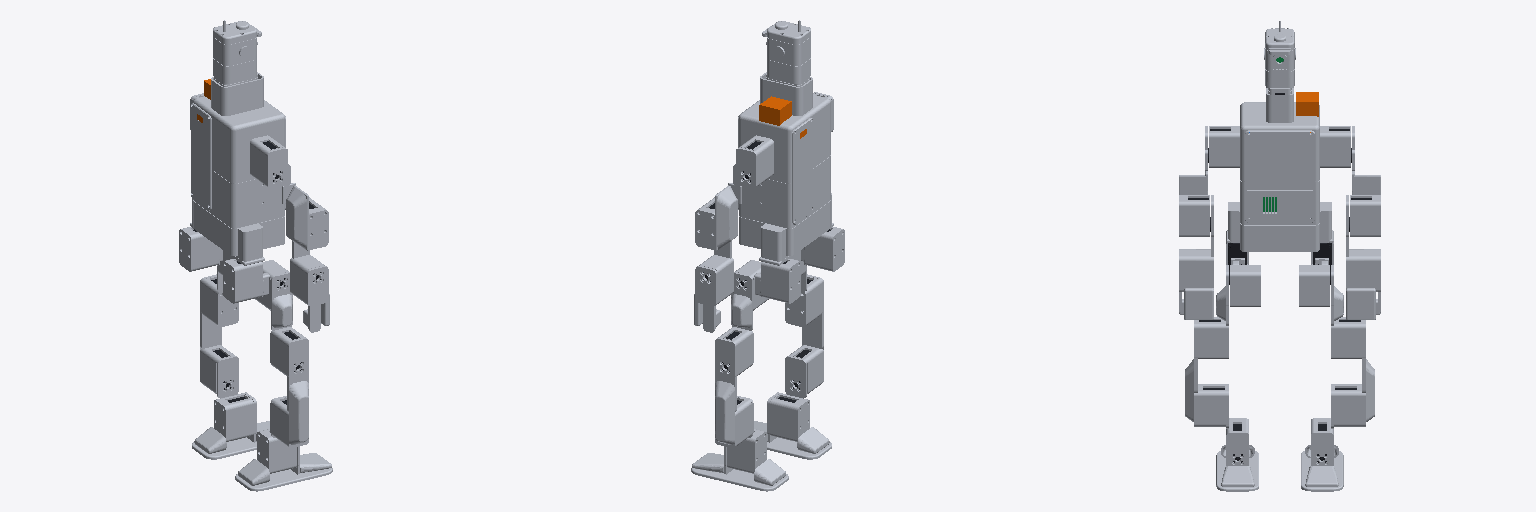
The robot description file, URDF, robot "budget19":
<?xml version="1.0"?>
<!-- Budget-19 humanoid. Generated by cad/sim_export.py. Units: m, kg, rad. Link frames are world-aligned at zero pose, origin at the joint shaft. -->
<robot name="budget19">
  <material name="printed"><color rgba="0.78 0.80 0.84 1"/></material>
  <material name="servo"><color rgba="0.17 0.18 0.21 1"/></material>
  <link name="base">
    <inertial><origin xyz="-0.0252444 0.00404039 0.418896" rpy="0 0 0"/><mass value="0.982852"/>
      <inertia ixx="0.00483797" ixy="-1.70004e-05" ixz="-0.000154384" iyy="0.00362709" iyz="-8.59185e-05" izz="0.00199682"/></inertial>
    <visual><origin xyz="0 0 0" rpy="0 0 0"/><geometry><mesh filename="meshes/base.obj"/></geometry><material name="printed"/></visual>
    <visual name="r_hip_yaw_servo"><origin xyz="-0.04 -0.0425 0.3357" rpy="3.14159 0 -1.5708"/><geometry><mesh filename="meshes/sts3215.obj"/></geometry><material name="servo"/></visual>
    <visual name="l_hip_yaw_servo"><origin xyz="-0.04 0.0425 0.3357" rpy="3.14159 0 1.5708"/><geometry><mesh filename="meshes/sts3215.obj"/></geometry><material name="servo"/></visual>
    <visual name="r_shoulder_pitch_servo"><origin xyz="-0.0224 -0.0748 0.4525" rpy="1.5708 1.5708 0"/><geometry><mesh filename="meshes/sts3215.obj"/></geometry><material name="servo"/></visual>
    <visual name="l_shoulder_pitch_servo"><origin xyz="-0.0224 0.0748 0.4525" rpy="-1.5708 1.5708 0"/><geometry><mesh filename="meshes/sts3215.obj"/></geometry><material name="servo"/></visual>
    <visual name="neck_yaw_servo"><origin xyz="-0.0275 0 0.5228" rpy="0 0 -3.14159"/><geometry><mesh filename="meshes/sts3215.obj"/></geometry><material name="servo"/></visual>
    <visual name="env_Raspberry_Pi_5"><origin xyz="-0.0457877 -0.0181767 0.416498"/><geometry><box size="0.0183011 0.0573984 0.0879215"/></geometry><material name="m_compute"><color rgba="0.12 0.44 0.88 1"/></material></visual>
    <visual name="env_3S_LiPo_2200_mAh_typical_outline"><origin xyz="-0.02 0.026 0.4215"/><geometry><box size="0.025 0.035 0.117"/></geometry><material name="m_power"><color rgba="0.91 0.44 0.04 1"/></material></visual>
    <visual name="env_Pololu_D24V50F5_5_V_buck"><origin xyz="0.0108 0.035 0.385"/><geometry><box size="0.0088 0.0203 0.0178"/></geometry><material name="m_power"><color rgba="0.91 0.44 0.04 1"/></material></visual>
    <visual name="env_Waveshare_bus_adapter_A_legs"><origin xyz="0.0054 -0.031 0.42275"/><geometry><box size="0.0126 0.033 0.0445"/></geometry><material name="m_compute"><color rgba="0.12 0.44 0.88 1"/></material></visual>
    <visual name="env_Waveshare_bus_adapter_B_arms_neck"><origin xyz="0.0054 -0.031 0.46475"/><geometry><box size="0.0126 0.033 0.0445"/></geometry><material name="m_compute"><color rgba="0.12 0.44 0.88 1"/></material></visual>
    <visual name="env_Seeed_XIAO_ESP32-S3"><origin xyz="0.01165 0.025 0.431"/><geometry><box size="0.0042 0.0178 0.0225"/></geometry><material name="m_compute"><color rgba="0.12 0.44 0.88 1"/></material></visual>
    <visual name="env_Relay_+_fuse_holder"><origin xyz="-0.025 -0.032 0.378"/><geometry><box size="0.02 0.02 0.03"/></geometry><material name="m_power"><color rgba="0.91 0.44 0.04 1"/></material></visual>
    <visual name="env_Adafruit_BNO085_IMU"><origin xyz="-0.01 -0.00462166 0.363884"/><geometry><box size="0.0254 0.0221033 0.00276795"/></geometry><material name="m_sensor"><color rgba="0.1 0.6 0.33 1"/></material></visual>
    <visual name="env_40_mm_speaker"><origin xyz="0.00266165 -0.012772 0.388053"/><geometry><box size="0.0250343 0.0397942 0.0399567"/></geometry><material name="m_sensor"><color rgba="0.1 0.6 0.33 1"/></material></visual>
    <visual name="env_MAX98357A_I2S_amp"><origin xyz="0.013774 -0.00250923 0.41999"/><geometry><box size="0.00234808 0.0174158 0.01778"/></geometry><material name="m_sensor"><color rgba="0.1 0.6 0.33 1"/></material></visual>
    <visual name="env_E-stop_16_mm_unibody,_NC,_latching"><origin xyz="-0.03 0.036 0.49855"/><geometry><box size="0.03 0.0299161 0.0441"/></geometry><material name="m_power"><color rgba="0.91 0.44 0.04 1"/></material></visual>
    <visual name="env_XT60_panel_connector_charge_port"><origin xyz="-0.0558 0.026 0.482"/><geometry><box size="0.018 0.016 0.0081"/></geometry><material name="m_power"><color rgba="0.91 0.44 0.04 1"/></material></visual>
  </link>
  <link name="r_foot">
    <inertial><origin xyz="-0.00793475 9.90203e-09 -0.0163007" rpy="0 0 0"/><mass value="0.0354951"/>
      <inertia ixx="1.26238e-05" ixy="3.61196e-11" ixz="-1.07029e-06" iyy="4.89843e-05" iyz="1.65015e-11" izz="5.01619e-05"/></inertial>
    <visual><origin xyz="0 0 0" rpy="0 0 0"/><geometry><mesh filename="meshes/r_foot.obj"/></geometry><material name="printed"/></visual>
    <collision><origin xyz="-0.011 0 -0.023"/><geometry><box size="0.122 0.056 0.004"/></geometry></collision>
  </link>
  <link name="r_ankle_link">
    <inertial><origin xyz="0.00191297 0.0144518 -0.0374398" rpy="0 0 0"/><mass value="0.0769925"/>
      <inertia ixx="3.14209e-05" ixy="-1.1018e-07" ixz="6.09626e-07" iyy="3.46897e-05" iyz="2.84812e-06" izz="1.39515e-05"/></inertial>
    <visual><origin xyz="0 0 0" rpy="0 0 0"/><geometry><mesh filename="meshes/r_ankle_link.obj"/></geometry><material name="printed"/></visual>
    <visual name="r_ankle_roll_servo"><origin xyz="0.0033 0.0152 -0.0405" rpy="-0 1.5708 0"/><geometry><mesh filename="meshes/sts3215.obj"/></geometry><material name="servo"/></visual>
  </link>
  <link name="r_shin">
    <inertial><origin xyz="8.29409e-08 0.0135404 -0.0760556" rpy="0 0 0"/><mass value="0.0870581"/>
      <inertia ixx="7.97093e-05" ixy="-1.90935e-11" ixz="-2.70447e-10" iyy="7.01483e-05" iyz="1.26417e-05" izz="2.09551e-05"/></inertial>
    <visual><origin xyz="0 0 0" rpy="0 0 0"/><geometry><mesh filename="meshes/r_shin.obj"/></geometry><material name="printed"/></visual>
    <visual name="r_ankle_pitch_servo"><origin xyz="0 0.0187 -0.0845" rpy="-1.5708 1.5708 0"/><geometry><mesh filename="meshes/sts3215.obj"/></geometry><material name="servo"/></visual>
  </link>
  <link name="r_thigh">
    <inertial><origin xyz="-8.7768e-08 -0.0203383 -0.0820283" rpy="0 0 0"/><mass value="0.101656"/>
      <inertia ixx="6.13843e-05" ixy="-2.1406e-11" ixz="3.36427e-11" iyy="5.49293e-05" iyz="-8.77145e-06" izz="1.90142e-05"/></inertial>
    <visual><origin xyz="0 0 0" rpy="0 0 0"/><geometry><mesh filename="meshes/r_thigh.obj"/></geometry><material name="printed"/></visual>
    <visual name="r_knee_servo"><origin xyz="0 -0.0229 -0.0875" rpy="1.5708 1.5708 0"/><geometry><mesh filename="meshes/sts3215.obj"/></geometry><material name="servo"/></visual>
  </link>
  <link name="r_hip_roll_link">
    <inertial><origin xyz="0.0274745 0.00833604 -0.0122249" rpy="0 0 0"/><mass value="0.0952103"/>
      <inertia ixx="2.80195e-05" ixy="-6.80095e-07" ixz="8.12502e-07" iyy="2.46916e-05" iyz="5.78749e-07" izz="1.75482e-05"/></inertial>
    <visual><origin xyz="0 0 0" rpy="0 0 0"/><geometry><mesh filename="meshes/r_hip_roll_link.obj"/></geometry><material name="printed"/></visual>
    <visual name="r_hip_pitch_servo"><origin xyz="0.0282 0.0077 -0.0125" rpy="1.5708 -1.5708 0"/><geometry><mesh filename="meshes/sts3215.obj"/></geometry><material name="servo"/></visual>
  </link>
  <link name="r_hip_yaw_link">
    <inertial><origin xyz="-0.00769975 0.000694954 -0.027868" rpy="0 0 0"/><mass value="0.0770069"/>
      <inertia ixx="2.30142e-05" ixy="-4.12113e-07" ixz="-7.65584e-07" iyy="2.56238e-05" iyz="-1.3793e-06" izz="1.51578e-05"/></inertial>
    <visual><origin xyz="0 0 0" rpy="0 0 0"/><geometry><mesh filename="meshes/r_hip_yaw_link.obj"/></geometry><material name="printed"/></visual>
    <visual name="r_hip_roll_servo"><origin xyz="-0.0069 0 -0.0295" rpy="-0 1.5708 0"/><geometry><mesh filename="meshes/sts3215.obj"/></geometry><material name="servo"/></visual>
  </link>
  <link name="r_upper_arm">
    <inertial><origin xyz="0.033996 -0.0165551 -0.0616951" rpy="0 0 0"/><mass value="0.0902916"/>
      <inertia ixx="6.19496e-05" ixy="2.09106e-06" ixz="1.56339e-05" iyy="6.62875e-05" iyz="-5.12834e-06" izz="2.63526e-05"/></inertial>
    <visual><origin xyz="0 0 0" rpy="0 0 0"/><geometry><mesh filename="meshes/r_upper_arm.obj"/></geometry><material name="printed"/></visual>
    <visual name="r_elbow_servo"><origin xyz="0.0389 -0.0159 -0.0685" rpy="-1.5708 1.5708 0"/><geometry><mesh filename="meshes/sts3215.obj"/></geometry><material name="servo"/></visual>
  </link>
  <link name="r_forearm">
    <inertial><origin xyz="0.00203198 -0.01579 -0.0664544" rpy="0 0 0"/><mass value="0.0887601"/>
      <inertia ixx="7.38015e-05" ixy="-1.60495e-07" ixz="7.25662e-06" iyy="7.0135e-05" iyz="-6.83323e-06" izz="1.96379e-05"/></inertial>
    <visual><origin xyz="0 0 0" rpy="0 0 0"/><geometry><mesh filename="meshes/r_forearm.obj"/></geometry><material name="printed"/></visual>
    <visual name="r_gripper_servo"><origin xyz="0 -0.0187 -0.0665" rpy="1.5708 -1.5708 0"/><geometry><mesh filename="meshes/sts3215.obj"/></geometry><material name="servo"/></visual>
  </link>
  <link name="r_finger">
    <inertial><origin xyz="-0.00110979 0.00334888 -0.0408828" rpy="0 0 0"/><mass value="0.00946515"/>
      <inertia ixx="7.4122e-06" ixy="-5.78359e-09" ixz="-1.91359e-07" iyy="7.17511e-06" iyz="1.23719e-06" izz="1.06221e-06"/></inertial>
    <visual><origin xyz="0 0 0" rpy="0 0 0"/><geometry><mesh filename="meshes/r_finger.obj"/></geometry><material name="printed"/></visual>
  </link>
  <link name="l_foot">
    <inertial><origin xyz="-0.00793475 -9.90203e-09 -0.0163007" rpy="0 0 0"/><mass value="0.0354951"/>
      <inertia ixx="1.26238e-05" ixy="-3.61196e-11" ixz="-1.07029e-06" iyy="4.89843e-05" iyz="-1.65015e-11" izz="5.01619e-05"/></inertial>
    <visual><origin xyz="0 0 0" rpy="0 0 0"/><geometry><mesh filename="meshes/l_foot.obj"/></geometry><material name="printed"/></visual>
    <collision><origin xyz="-0.011 0 -0.023"/><geometry><box size="0.122 0.056 0.004"/></geometry></collision>
  </link>
  <link name="l_ankle_link">
    <inertial><origin xyz="0.00191297 -0.014452 -0.0374398" rpy="0 0 0"/><mass value="0.0769925"/>
      <inertia ixx="3.14209e-05" ixy="1.10193e-07" ixz="6.09626e-07" iyy="3.46897e-05" iyz="-2.84796e-06" izz="1.39515e-05"/></inertial>
    <visual><origin xyz="0 0 0" rpy="0 0 0"/><geometry><mesh filename="meshes/l_ankle_link.obj"/></geometry><material name="printed"/></visual>
    <visual name="l_ankle_roll_servo"><origin xyz="0.0033 -0.0152 -0.0405" rpy="-0 1.5708 0"/><geometry><mesh filename="meshes/sts3215.obj"/></geometry><material name="servo"/></visual>
  </link>
  <link name="l_shin">
    <inertial><origin xyz="-7.91865e-08 -0.0135404 -0.0760556" rpy="0 0 0"/><mass value="0.0870581"/>
      <inertia ixx="7.97093e-05" ixy="-4.68935e-11" ixz="-1.87975e-10" iyy="7.01483e-05" iyz="-1.26417e-05" izz="2.09551e-05"/></inertial>
    <visual><origin xyz="0 0 0" rpy="0 0 0"/><geometry><mesh filename="meshes/l_shin.obj"/></geometry><material name="printed"/></visual>
    <visual name="l_ankle_pitch_servo"><origin xyz="0 -0.0187 -0.0845" rpy="1.5708 1.5708 0"/><geometry><mesh filename="meshes/sts3215.obj"/></geometry><material name="servo"/></visual>
  </link>
  <link name="l_thigh">
    <inertial><origin xyz="9.69675e-08 0.0203383 -0.0820283" rpy="0 0 0"/><mass value="0.101656"/>
      <inertia ixx="6.13843e-05" ixy="-1.76035e-11" ixz="-1.31912e-10" iyy="5.49293e-05" iyz="8.77145e-06" izz="1.90142e-05"/></inertial>
    <visual><origin xyz="0 0 0" rpy="0 0 0"/><geometry><mesh filename="meshes/l_thigh.obj"/></geometry><material name="printed"/></visual>
    <visual name="l_knee_servo"><origin xyz="0 0.0229 -0.0875" rpy="-1.5708 1.5708 0"/><geometry><mesh filename="meshes/sts3215.obj"/></geometry><material name="servo"/></visual>
  </link>
  <link name="l_hip_roll_link">
    <inertial><origin xyz="0.0274743 -0.00833604 -0.0122249" rpy="0 0 0"/><mass value="0.0952103"/>
      <inertia ixx="2.80195e-05" ixy="6.80097e-07" ixz="8.12231e-07" iyy="2.46915e-05" iyz="-5.78747e-07" izz="1.75482e-05"/></inertial>
    <visual><origin xyz="0 0 0" rpy="0 0 0"/><geometry><mesh filename="meshes/l_hip_roll_link.obj"/></geometry><material name="printed"/></visual>
    <visual name="l_hip_pitch_servo"><origin xyz="0.0282 -0.0077 -0.0125" rpy="-1.5708 -1.5708 0"/><geometry><mesh filename="meshes/sts3215.obj"/></geometry><material name="servo"/></visual>
  </link>
  <link name="l_hip_yaw_link">
    <inertial><origin xyz="-0.00769975 -0.000695137 -0.027868" rpy="0 0 0"/><mass value="0.0770069"/>
      <inertia ixx="2.30142e-05" ixy="4.12118e-07" ixz="-7.65584e-07" iyy="2.56238e-05" iyz="1.37948e-06" izz="1.51578e-05"/></inertial>
    <visual><origin xyz="0 0 0" rpy="0 0 0"/><geometry><mesh filename="meshes/l_hip_yaw_link.obj"/></geometry><material name="printed"/></visual>
    <visual name="l_hip_roll_servo"><origin xyz="-0.0069 0 -0.0295" rpy="-0 1.5708 0"/><geometry><mesh filename="meshes/sts3215.obj"/></geometry><material name="servo"/></visual>
  </link>
  <link name="l_upper_arm">
    <inertial><origin xyz="0.0339958 0.0165551 -0.0616951" rpy="0 0 0"/><mass value="0.0902916"/>
      <inertia ixx="6.19495e-05" ixy="-2.09107e-06" ixz="1.5634e-05" iyy="6.62873e-05" iyz="5.12834e-06" izz="2.63525e-05"/></inertial>
    <visual><origin xyz="0 0 0" rpy="0 0 0"/><geometry><mesh filename="meshes/l_upper_arm.obj"/></geometry><material name="printed"/></visual>
    <visual name="l_elbow_servo"><origin xyz="0.0389 0.0159 -0.0685" rpy="1.5708 1.5708 0"/><geometry><mesh filename="meshes/sts3215.obj"/></geometry><material name="servo"/></visual>
  </link>
  <link name="l_forearm">
    <inertial><origin xyz="0.00203182 0.01579 -0.0664544" rpy="0 0 0"/><mass value="0.0887601"/>
      <inertia ixx="7.38015e-05" ixy="1.60529e-07" ixz="7.25641e-06" iyy="7.01351e-05" iyz="6.83324e-06" izz="1.96379e-05"/></inertial>
    <visual><origin xyz="0 0 0" rpy="0 0 0"/><geometry><mesh filename="meshes/l_forearm.obj"/></geometry><material name="printed"/></visual>
    <visual name="l_gripper_servo"><origin xyz="0 0.0187 -0.0665" rpy="-1.5708 -1.5708 0"/><geometry><mesh filename="meshes/sts3215.obj"/></geometry><material name="servo"/></visual>
  </link>
  <link name="l_finger">
    <inertial><origin xyz="-0.00110979 -0.00334888 -0.0408828" rpy="0 0 0"/><mass value="0.00946516"/>
      <inertia ixx="7.4122e-06" ixy="5.78357e-09" ixz="-1.91359e-07" iyy="7.17511e-06" iyz="-1.23719e-06" izz="1.06221e-06"/></inertial>
    <visual><origin xyz="0 0 0" rpy="0 0 0"/><geometry><mesh filename="meshes/l_finger.obj"/></geometry><material name="printed"/></visual>
  </link>
  <link name="head">
    <inertial><origin xyz="0.0127807 0.000229491 0.0328617" rpy="0 0 0"/><mass value="0.0592613"/>
      <inertia ixx="3.62484e-05" ixy="-1.66181e-07" ixz="3.57758e-07" iyy="4.16136e-05" iyz="3.89202e-08" izz="2.19961e-05"/></inertial>
    <visual><origin xyz="0 0 0" rpy="0 0 0"/><geometry><mesh filename="meshes/head.obj"/></geometry><material name="printed"/></visual>
    <visual name="env_Pi_Camera_Module_3"><origin xyz="0.026 0 0.03785"/><geometry><box size="0.0115 0.025 0.0245"/></geometry><material name="m_sensor"><color rgba="0.1 0.6 0.33 1"/></material></visual>
    <visual name="env_I2S_MEMS_mic"><origin xyz="0.025 0.0136 0.03"/><geometry><box size="0.0127 0.0016 0.008"/></geometry><material name="m_sensor"><color rgba="0.1 0.6 0.33 1"/></material></visual>
  </link>
  <link name="imu_link"/>
  <joint name="imu_joint" type="fixed"><parent link="base"/><child link="imu_link"/><origin xyz="-0.01 -0.005 0.3648"/></joint>
  <link name="head_camera_link"/>
  <joint name="head_camera_joint" type="fixed"><parent link="head"/><child link="head_camera_link"/><origin xyz="0.031 0 0.045"/></joint>
  <joint name="r_hip_yaw" type="revolute"><!-- servo ID 1 -->
    <parent link="base"/><child link="r_hip_yaw_link"/><origin xyz="-0.04 -0.055 0.317" rpy="0 0 0"/><axis xyz="0 0 -1"/>
    <limit lower="-0.56" upper="0.28" effort="2.94" velocity="4.72"/><dynamics damping="0.05" friction="0.03"/></joint>
  <joint name="r_hip_roll" type="revolute"><!-- servo ID 2 -->
    <parent link="r_hip_yaw_link"/><child link="r_hip_roll_link"/><origin xyz="0.0118 0 -0.042" rpy="0 0 0"/><axis xyz="1 0 0"/>
    <limit lower="-0.24" upper="0.2" effort="2.94" velocity="4.72"/><dynamics damping="0.05" friction="0.03"/></joint>
  <joint name="r_hip_pitch" type="revolute"><!-- servo ID 3 -->
    <parent link="r_hip_roll_link"/><child link="r_thigh"/><origin xyz="0.0282 -0.011 0" rpy="0 0 0"/><axis xyz="0 -1 0"/>
    <limit lower="-0.6" upper="0.95" effort="4.9" velocity="7.87"/><dynamics damping="0.05" friction="0.03"/></joint>
  <joint name="r_knee" type="revolute"><!-- servo ID 4 -->
    <parent link="r_thigh"/><child link="r_shin"/><origin xyz="0 -0.0416 -0.1" rpy="0 0 0"/><axis xyz="0 -1 0"/>
    <limit lower="-1.9" upper="0.09" effort="4.9" velocity="7.87"/><dynamics damping="0.05" friction="0.03"/></joint>
  <joint name="r_ankle_pitch" type="revolute"><!-- servo ID 5 -->
    <parent link="r_shin"/><child link="r_ankle_link"/><origin xyz="0 0.0374 -0.097" rpy="0 0 0"/><axis xyz="0 1 0"/>
    <limit lower="-0.76" upper="0.76" effort="2.94" velocity="4.72"/><dynamics damping="0.05" friction="0.03"/></joint>
  <joint name="r_ankle_roll" type="revolute"><!-- servo ID 6 -->
    <parent link="r_ankle_link"/><child link="r_foot"/><origin xyz="0.022 0.0152 -0.053" rpy="0 0 0"/><axis xyz="1 0 0"/>
    <limit lower="-0.33" upper="0.33" effort="2.94" velocity="4.72"/><dynamics damping="0.05" friction="0.03"/></joint>
  <joint name="r_shoulder_pitch" type="revolute"><!-- servo ID 13 -->
    <parent link="base"/><child link="r_upper_arm"/><origin xyz="-0.0224 -0.0935 0.44" rpy="0 0 0"/><axis xyz="0 -1 0"/>
    <limit lower="-1.9" upper="1.9" effort="2.94" velocity="4.72"/><dynamics damping="0.05" friction="0.03"/></joint>
  <joint name="r_elbow" type="revolute"><!-- servo ID 14 -->
    <parent link="r_upper_arm"/><child link="r_forearm"/><origin xyz="0.0389 0.0028 -0.081" rpy="0 0 0"/><axis xyz="0 1 0"/>
    <limit lower="-1.42" upper="1.42" effort="2.94" velocity="4.72"/><dynamics damping="0.05" friction="0.03"/></joint>
  <joint name="r_gripper" type="revolute"><!-- servo ID 15 -->
    <parent link="r_forearm"/><child link="r_finger"/><origin xyz="0 -0.0374 -0.054" rpy="0 0 0"/><axis xyz="0 -1 0"/>
    <limit lower="-0.47" upper="0.11" effort="2.94" velocity="4.72"/><dynamics damping="0.05" friction="0.03"/></joint>
  <joint name="l_hip_yaw" type="revolute"><!-- servo ID 7 -->
    <parent link="base"/><child link="l_hip_yaw_link"/><origin xyz="-0.04 0.055 0.317" rpy="0 0 0"/><axis xyz="0 0 -1"/>
    <limit lower="-0.28" upper="0.56" effort="2.94" velocity="4.72"/><dynamics damping="0.05" friction="0.03"/></joint>
  <joint name="l_hip_roll" type="revolute"><!-- servo ID 8 -->
    <parent link="l_hip_yaw_link"/><child link="l_hip_roll_link"/><origin xyz="0.0118 0 -0.042" rpy="0 0 0"/><axis xyz="1 0 0"/>
    <limit lower="-0.2" upper="0.24" effort="2.94" velocity="4.72"/><dynamics damping="0.05" friction="0.03"/></joint>
  <joint name="l_hip_pitch" type="revolute"><!-- servo ID 9 -->
    <parent link="l_hip_roll_link"/><child link="l_thigh"/><origin xyz="0.0282 0.011 0" rpy="0 0 0"/><axis xyz="0 1 0"/>
    <limit lower="-0.95" upper="0.6" effort="4.9" velocity="7.87"/><dynamics damping="0.05" friction="0.03"/></joint>
  <joint name="l_knee" type="revolute"><!-- servo ID 10 -->
    <parent link="l_thigh"/><child link="l_shin"/><origin xyz="0 0.0416 -0.1" rpy="0 0 0"/><axis xyz="0 1 0"/>
    <limit lower="-0.09" upper="1.9" effort="4.9" velocity="7.87"/><dynamics damping="0.05" friction="0.03"/></joint>
  <joint name="l_ankle_pitch" type="revolute"><!-- servo ID 11 -->
    <parent link="l_shin"/><child link="l_ankle_link"/><origin xyz="0 -0.0374 -0.097" rpy="0 0 0"/><axis xyz="0 -1 0"/>
    <limit lower="-0.76" upper="0.76" effort="2.94" velocity="4.72"/><dynamics damping="0.05" friction="0.03"/></joint>
  <joint name="l_ankle_roll" type="revolute"><!-- servo ID 12 -->
    <parent link="l_ankle_link"/><child link="l_foot"/><origin xyz="0.022 -0.0152 -0.053" rpy="0 0 0"/><axis xyz="1 0 0"/>
    <limit lower="-0.33" upper="0.33" effort="2.94" velocity="4.72"/><dynamics damping="0.05" friction="0.03"/></joint>
  <joint name="l_shoulder_pitch" type="revolute"><!-- servo ID 16 -->
    <parent link="base"/><child link="l_upper_arm"/><origin xyz="-0.0224 0.0935 0.44" rpy="0 0 0"/><axis xyz="0 1 0"/>
    <limit lower="-1.9" upper="1.9" effort="2.94" velocity="4.72"/><dynamics damping="0.05" friction="0.03"/></joint>
  <joint name="l_elbow" type="revolute"><!-- servo ID 17 -->
    <parent link="l_upper_arm"/><child link="l_forearm"/><origin xyz="0.0389 -0.0028 -0.081" rpy="0 0 0"/><axis xyz="0 -1 0"/>
    <limit lower="-1.42" upper="1.42" effort="2.94" velocity="4.72"/><dynamics damping="0.05" friction="0.03"/></joint>
  <joint name="l_gripper" type="revolute"><!-- servo ID 18 -->
    <parent link="l_forearm"/><child link="l_finger"/><origin xyz="0 0.0374 -0.054" rpy="0 0 0"/><axis xyz="0 1 0"/>
    <limit lower="-0.11" upper="0.47" effort="2.94" velocity="4.72"/><dynamics damping="0.05" friction="0.03"/></joint>
  <joint name="neck_yaw" type="revolute"><!-- servo ID 19 -->
    <parent link="base"/><child link="head"/><origin xyz="-0.04 0 0.5415" rpy="0 0 0"/><axis xyz="0 0 1"/>
    <limit lower="-1.13" upper="1.13" effort="2.94" velocity="4.72"/><dynamics damping="0.05" friction="0.03"/></joint>
</robot>

--- What the picture shows (computed from the rendered views, not written in the file) ---
3 views of the same robot in one strip: view 1: azimuth 30°, elevation 25°; view 2: azimuth 150°, elevation 25°; view 3: azimuth 270°, elevation 25° (orthographic).
Model budget19 with 22 links and 21 joints (19 revolute, 2 fixed), rooted at base, posed every joint at zero.
Visible links, largest first — view 1: base, r_upper_arm, r_shin, head, l_ankle_link, r_thigh, r_foot, r_hip_yaw_link, l_shin, l_foot, l_hip_yaw_link, l_thigh (+4 smaller); view 2: base, l_upper_arm, l_shin, head, r_ankle_link, l_thigh, l_foot, l_hip_yaw_link, r_shin, r_foot, r_hip_yaw_link, r_thigh (+4 smaller); view 3: base, r_forearm, l_forearm, r_foot, l_foot, r_shin, l_shin, r_upper_arm, l_upper_arm, head, r_thigh, l_thigh (+2 smaller).
Boxes of the visible links, x1,y1,x2,y2 form: base: (191,72,285,261); r_upper_arm: (266,147,328,250); r_shin: (272,338,308,447); head: (213,20,261,84); l_ankle_link: (214,356,253,441); r_thigh: (270,272,305,375); r_foot: (235,446,332,491); r_hip_yaw_link: (223,253,264,303); l_shin: (200,274,234,393); l_foot: (192,392,269,459); l_hip_yaw_link: (179,223,218,271); l_thigh: (202,266,238,326); base: (738,72,831,261); l_upper_arm: (695,147,757,250); l_shin: (715,338,751,447); head: (762,20,810,84); r_ankle_link: (770,356,809,441); l_thigh: (718,272,753,375); l_foot: (691,446,788,491); l_hip_yaw_link: (759,253,800,303); r_shin: (789,274,823,393); r_foot: (754,392,831,459); r_hip_yaw_link: (805,223,844,271); r_thigh: (785,266,821,326); base: (1208,88,1351,251); r_forearm: (1182,195,1213,319); l_forearm: (1346,195,1377,319); r_foot: (1216,432,1258,491); l_foot: (1301,432,1343,491); r_shin: (1185,320,1225,426); l_shin: (1334,320,1374,426); r_upper_arm: (1179,126,1210,236); l_upper_arm: (1349,126,1380,236); head: (1264,21,1295,91); r_thigh: (1198,265,1228,358); l_thigh: (1331,265,1361,358).
Size in the robot's own frame: 0.1417 by 0.2644 by 0.624 metres.
39 mesh visuals loaded from 21 distinct referenced files (21 OBJ).
